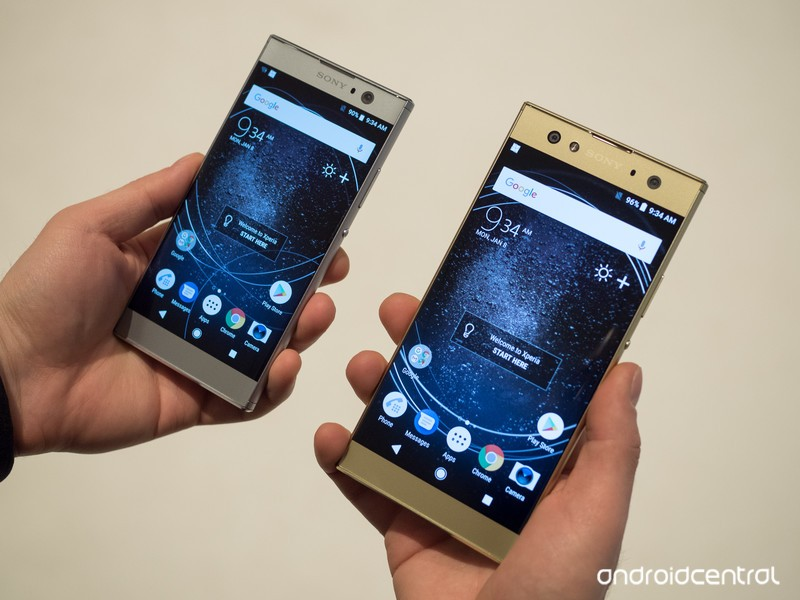mobile: (3, 10, 417, 441)
